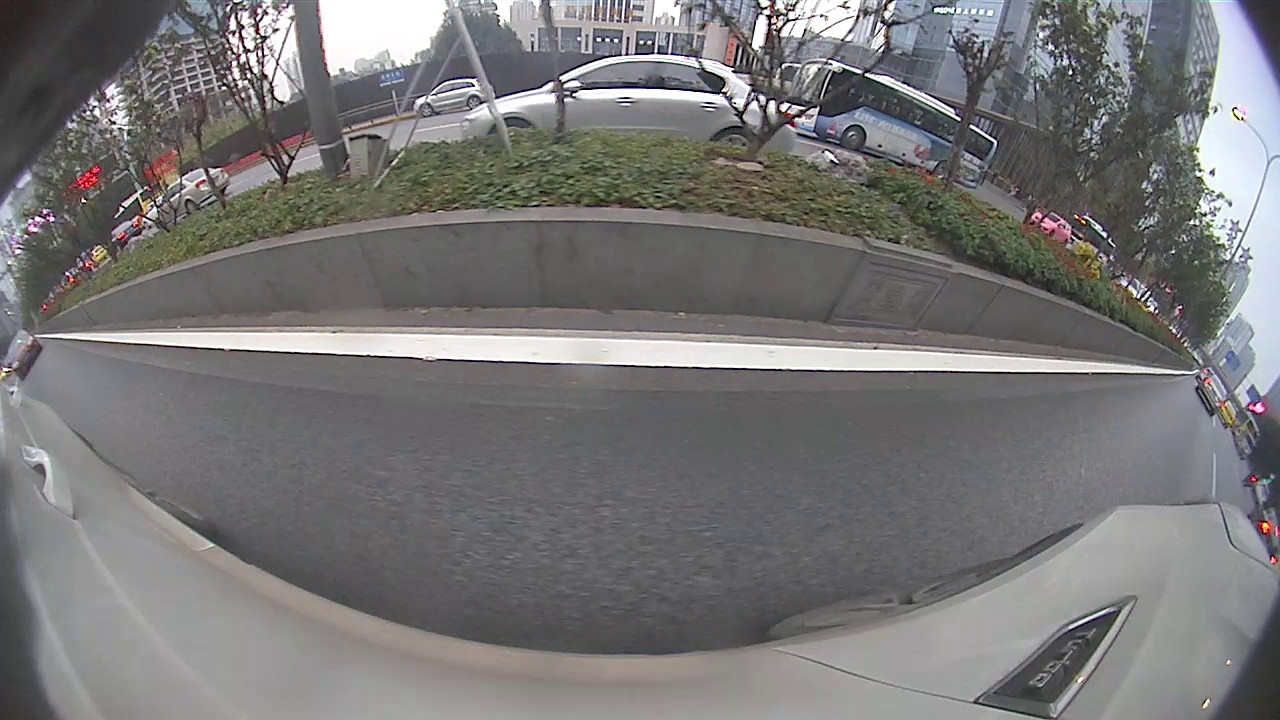car: (461, 51, 806, 154), (4, 323, 43, 382), (1194, 375, 1229, 417)
front: (840, 125, 868, 153), (418, 101, 434, 120)
rear: (183, 199, 203, 217), (467, 95, 483, 110)
